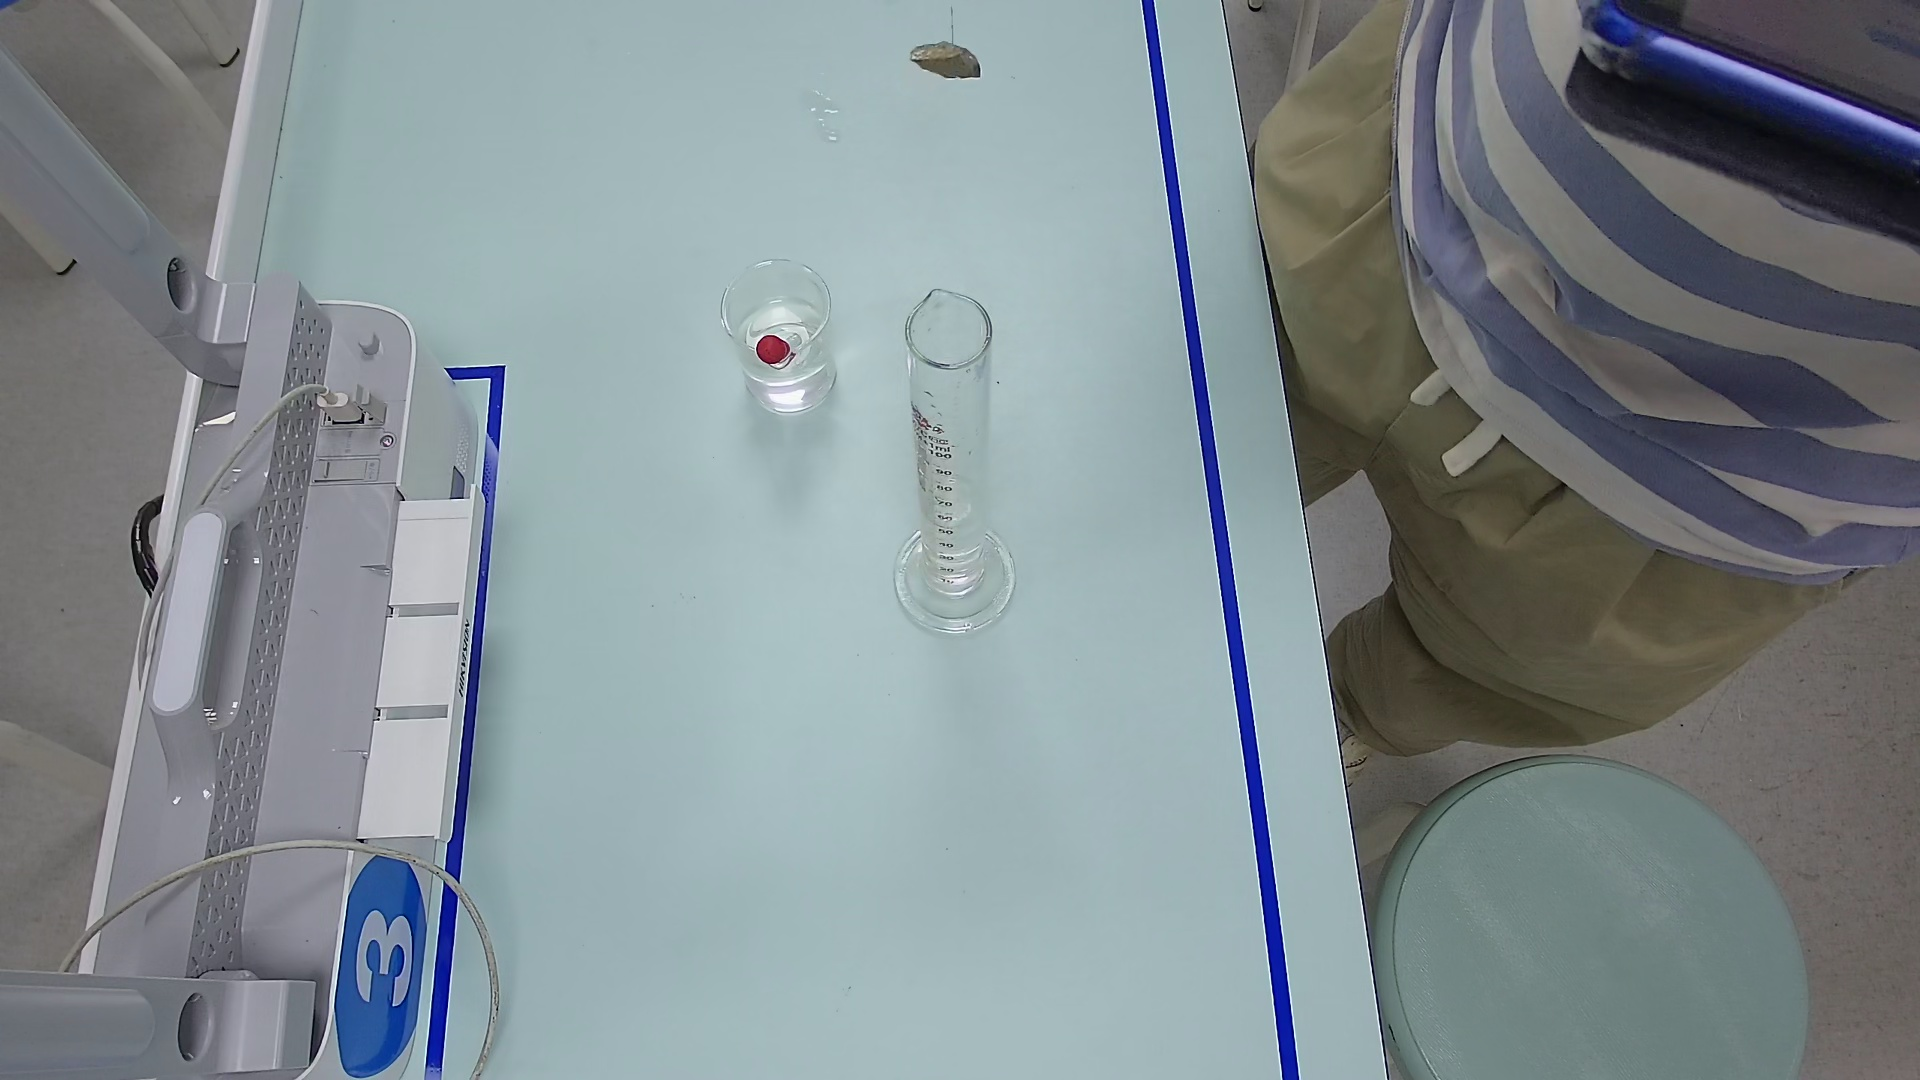ao: (923, 469, 993, 524)
bei: (717, 251, 849, 431)
diguantou: (753, 332, 794, 372)
liangdi: (886, 527, 1021, 634)
liangtong: (890, 280, 1025, 636)
shi: (909, 29, 986, 80)
